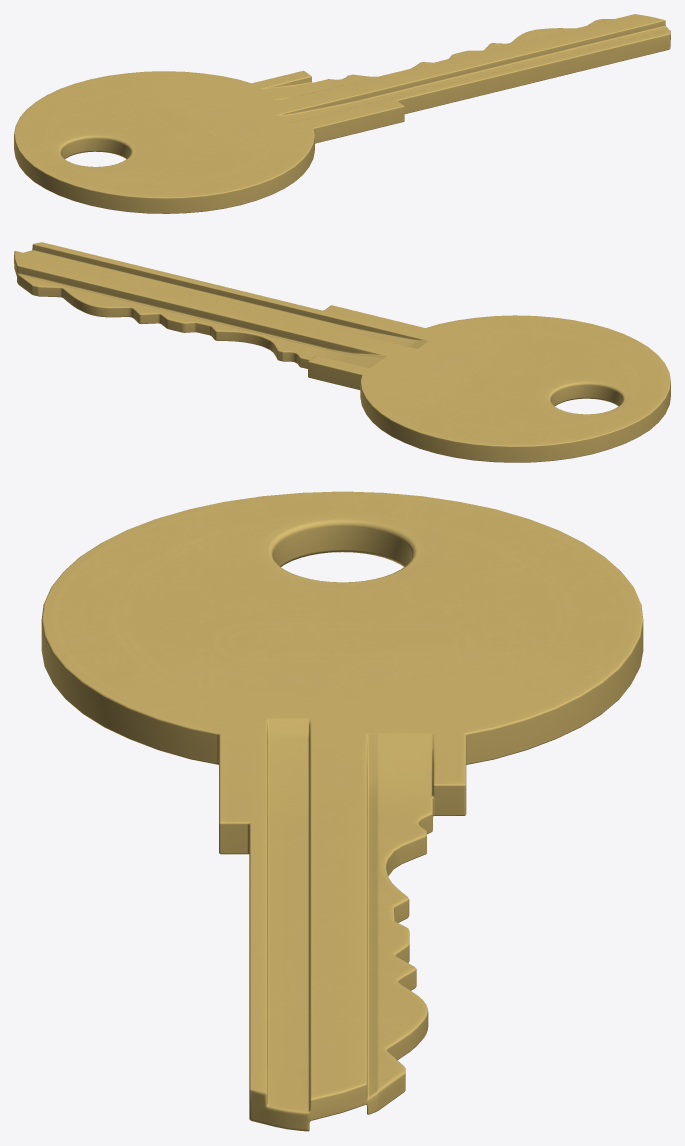
File: key_gold.glb
3 renders of one model, top to bottom at view 1: azimuth 30°, elevation 25°; view 2: azimuth 150°, elevation 25°; view 3: azimuth 270°, elevation 25°, orthographic. The views are drawn at different scales.
Visible parts, largest first — view 1: key_base_realistic_lod0; view 2: key_base_realistic_lod0; view 3: key_base_realistic_lod0.
Boxes of the visible parts, x1,y1,x2,y2 form: key_base_realistic_lod0: [14, 14, 670, 213]; key_base_realistic_lod0: [14, 242, 670, 462]; key_base_realistic_lod0: [41, 491, 643, 1131].
Bounding box in the file's own units: 0.0426 × 0.00107 × 0.0178.
Materials: 1 (1 with a texture image).
